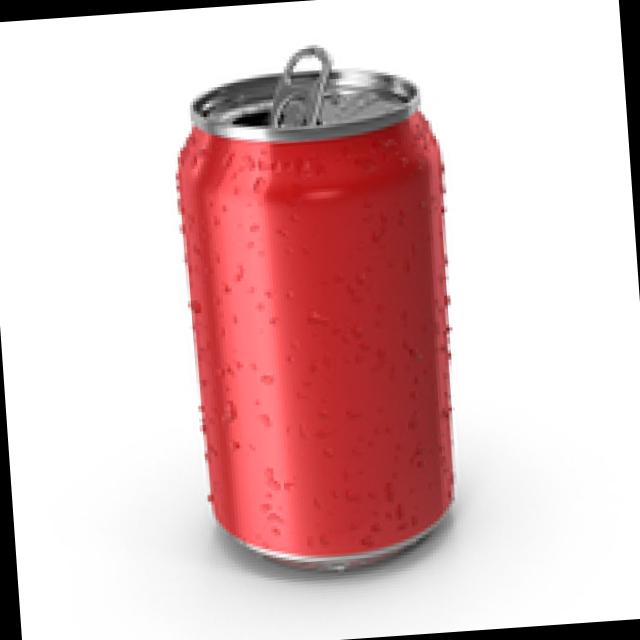soda_can: (138, 17, 492, 594)
